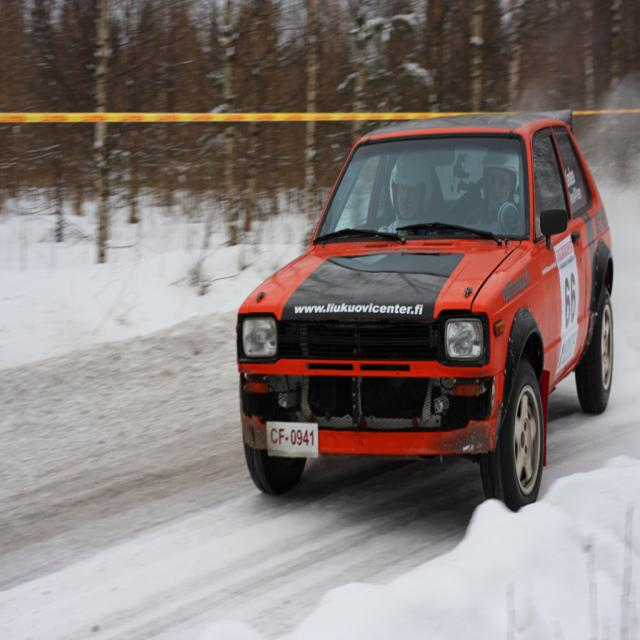other: (235, 112, 610, 512)
